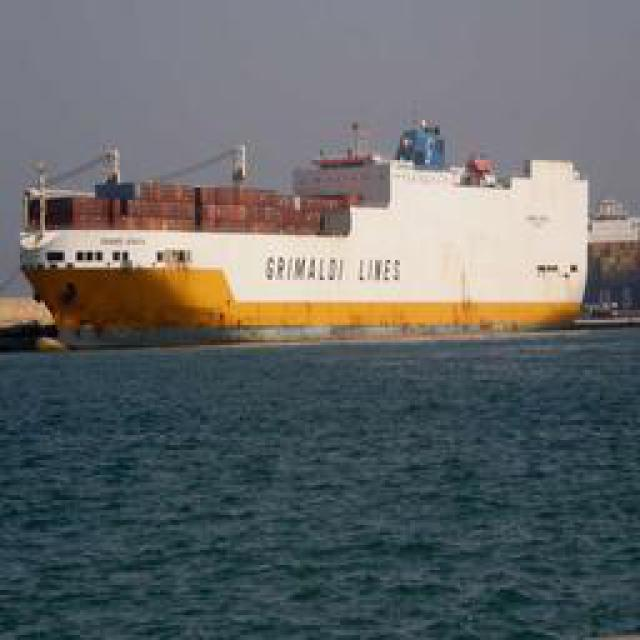Ship: (26, 136, 594, 341)
